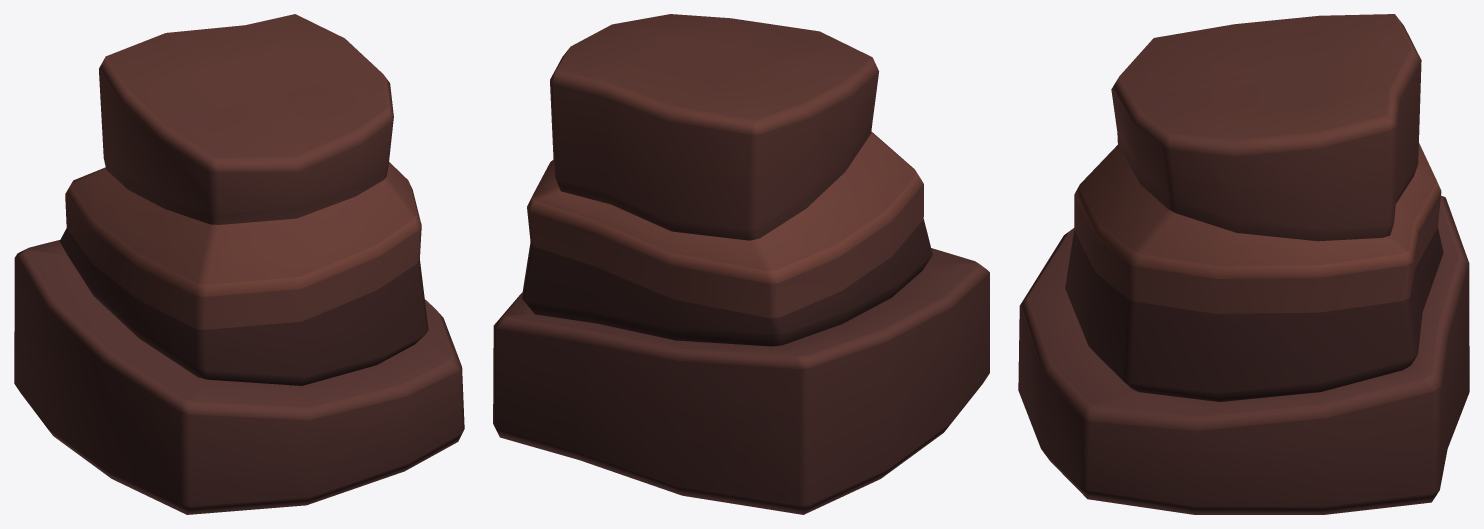
The model's file is rock_formation_10.fbx.
3 views of the same model, side by side, from view 1: azimuth 30°, elevation 25°; view 2: azimuth 150°, elevation 25°; view 3: azimuth 270°, elevation 25° (orthographic). The views are drawn at different scales.
Visible parts, largest first — view 1: rock_formation_10; view 2: rock_formation_10; view 3: rock_formation_10.
Part boxes in pixels (x1,y1,x2,y2): rock_formation_10: (14,14,464,514); rock_formation_10: (493,14,989,514); rock_formation_10: (1018,14,1469,514).
Size of the model in its own units: 416 by 392 by 431.
